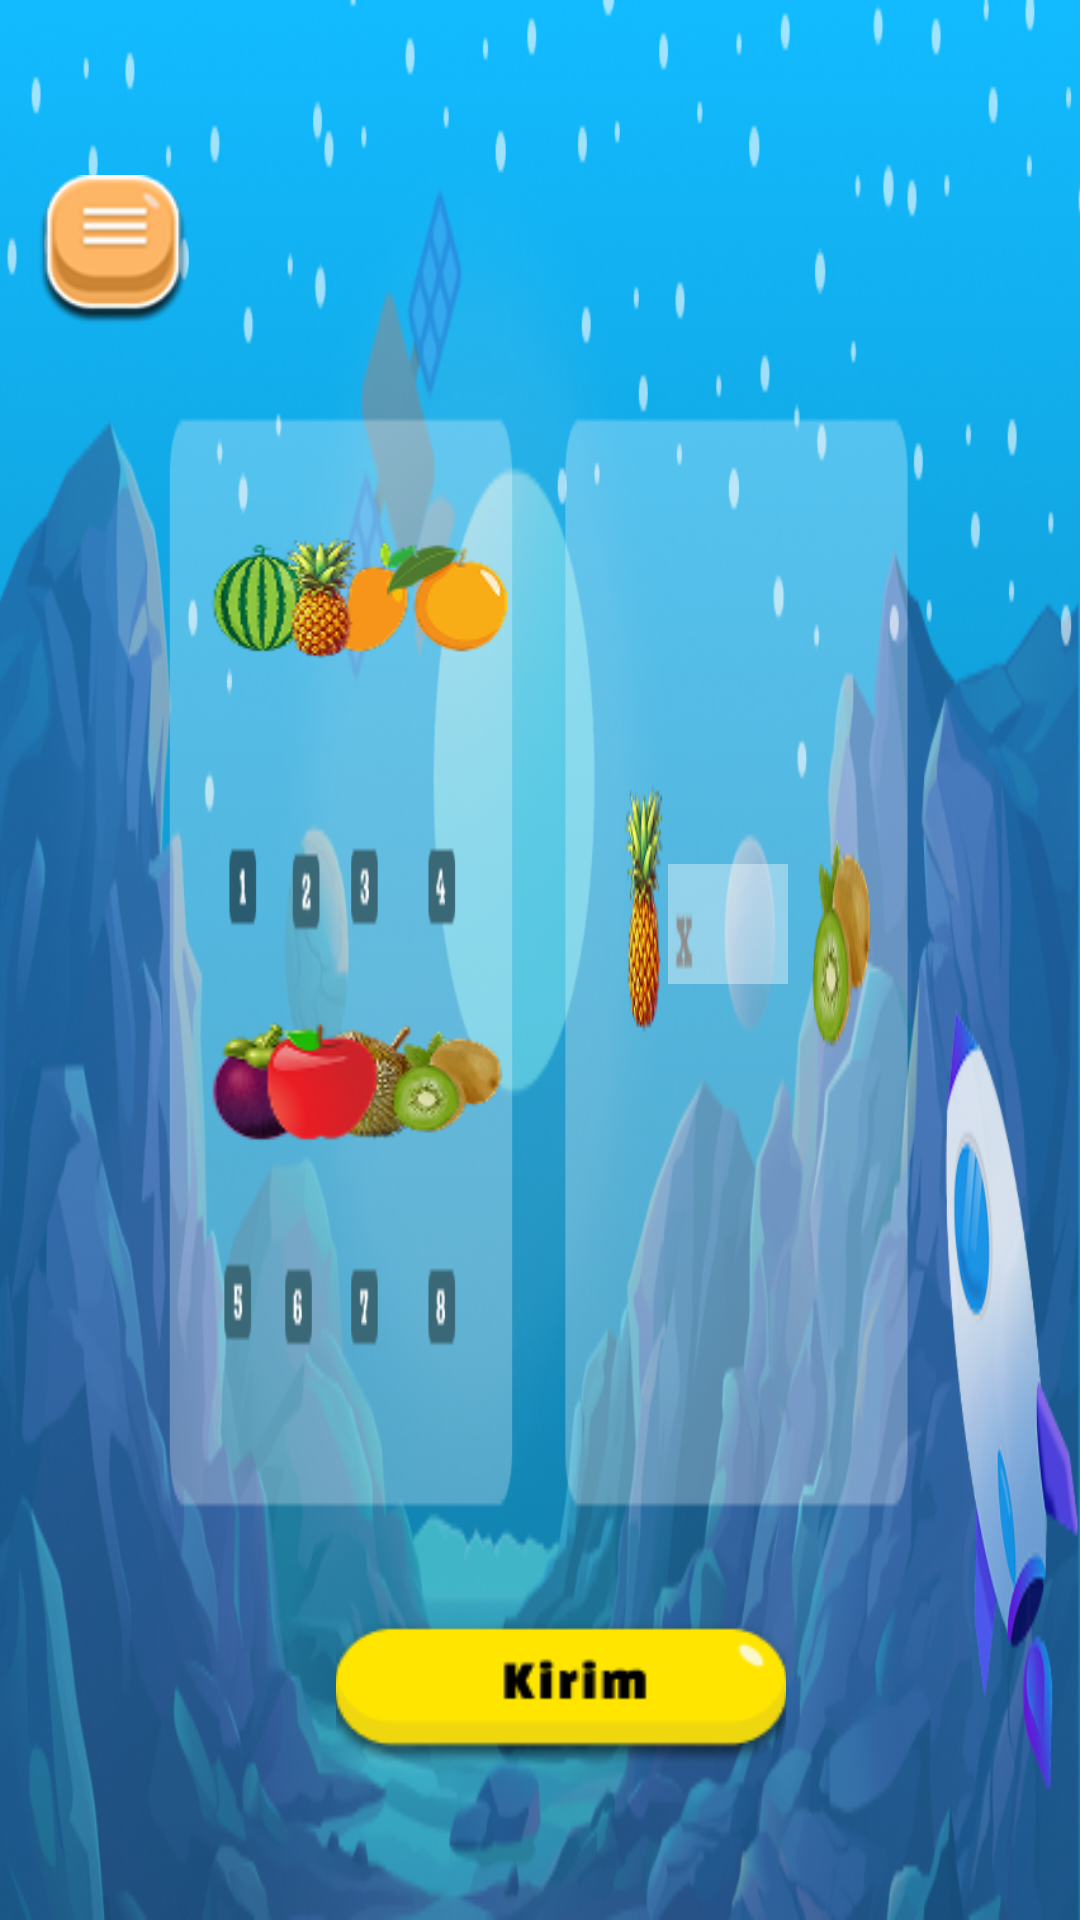

Screen size 1080w x 1920h. Icon name, then its center in pixels as [x,y]:
buahjeruk: [447,598]
